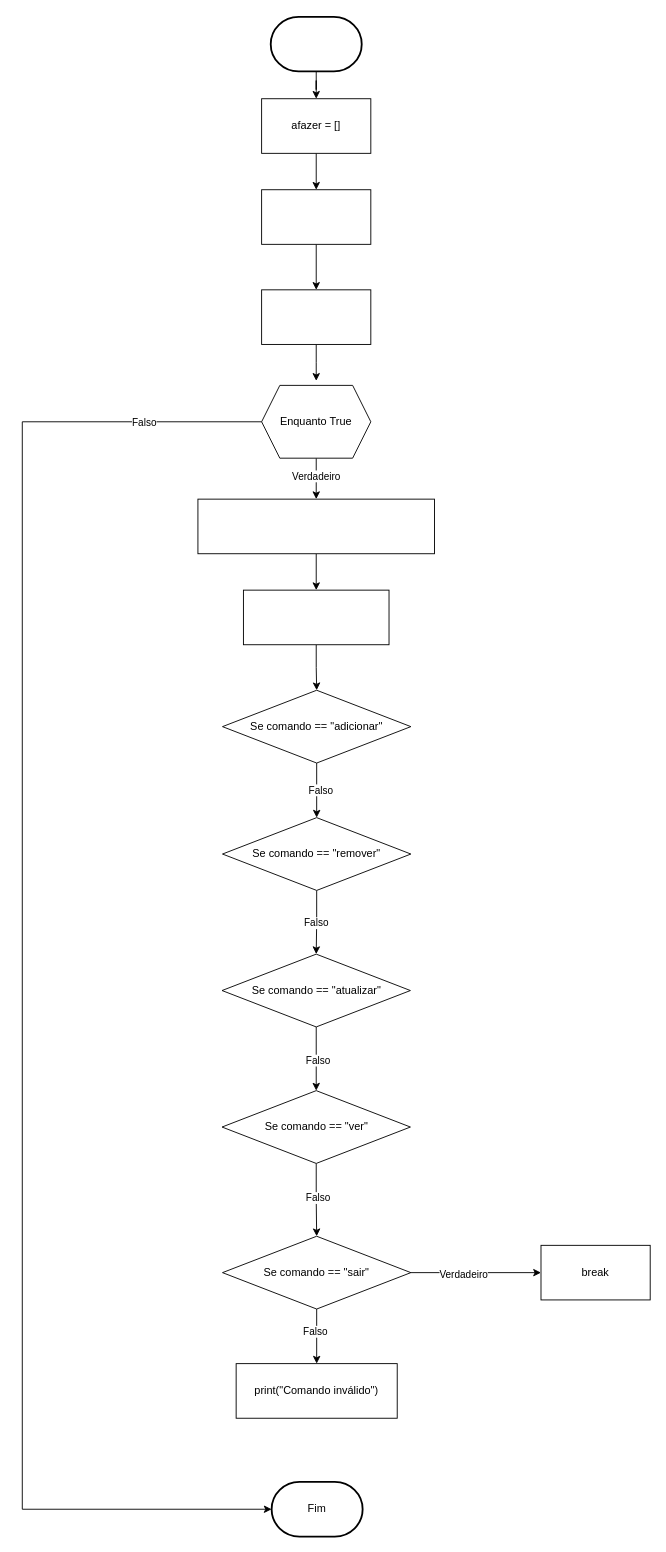
This 666x1552 diagram has some shape labels left out. Here are the shapes that lost their labels. From the top down, the centre of each, then its label:
(315,43): Início
(316,216): fazendo = []
(316,316): completo = []
(316,526): comando = input("Digite seu comando: ")
(316,617): comando.lstrip().lower()
